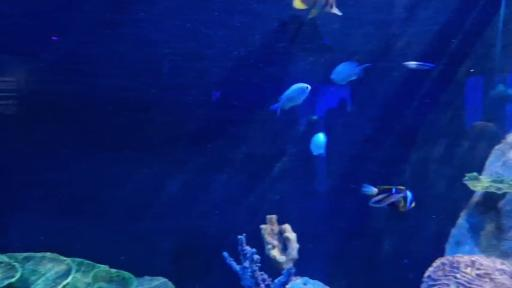Fish: (362, 184, 415, 211), (270, 83, 311, 115), (331, 62, 371, 84), (293, 0, 342, 17), (310, 132, 327, 156), (403, 62, 435, 69)
